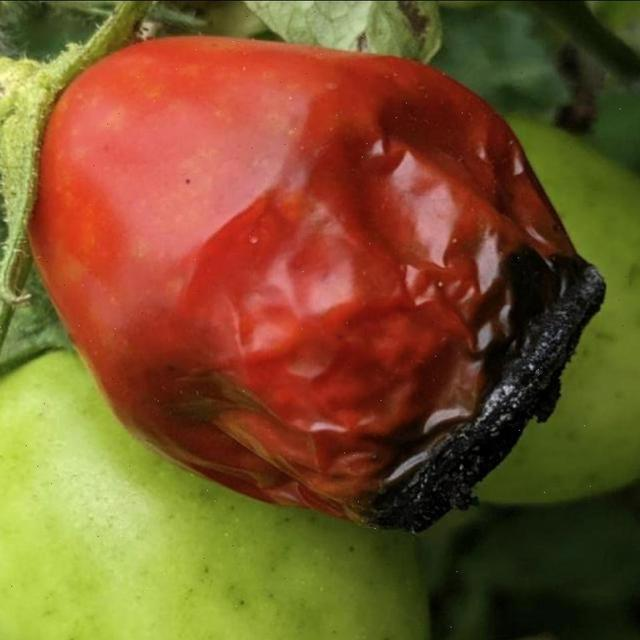Blossom End Rot Fruit: (238, 139, 404, 361)
